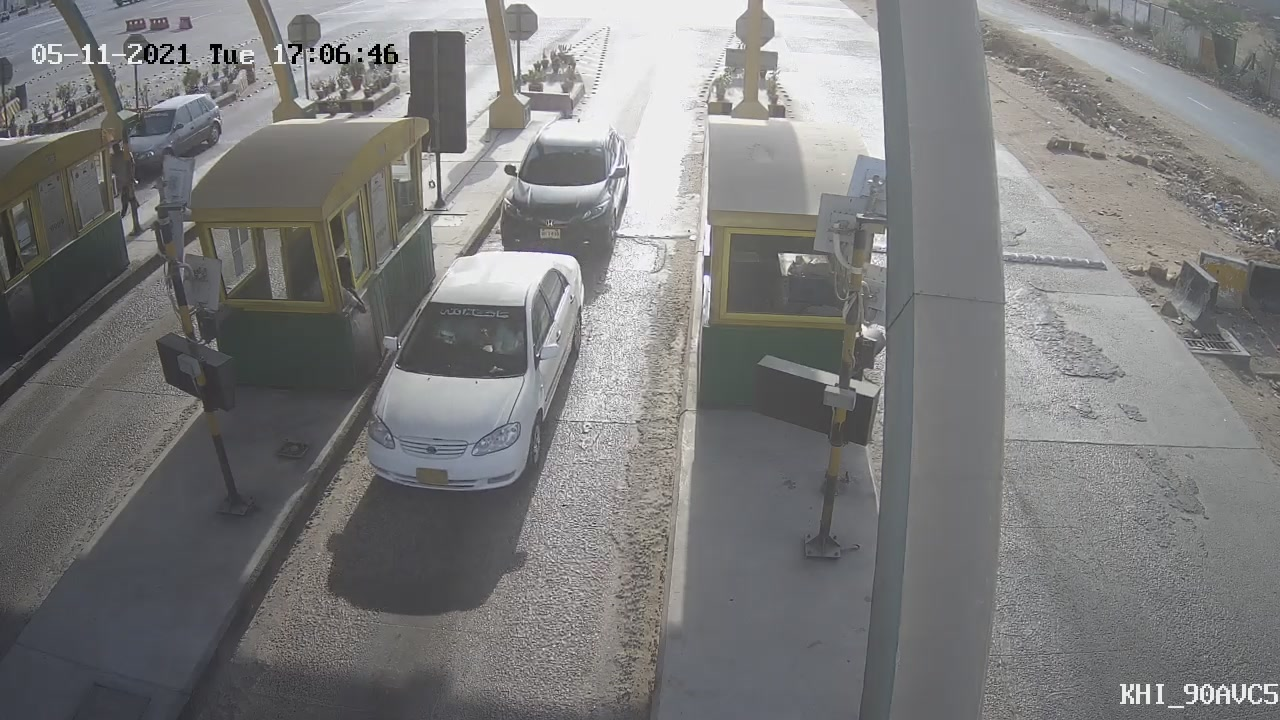F1: (342, 235, 609, 513), (486, 103, 647, 278)
